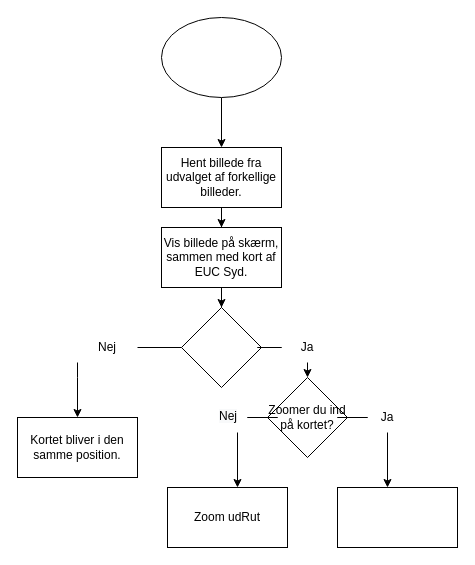
This 475x565 diagram has some shape labels left out. Here are the shapes that lost their labels. From the top down, the centre of each, then its label:
pixel 221 57: Start
pixel 221 347: Zoomer du på kortet?
pixel 397 517: Zoom ind
